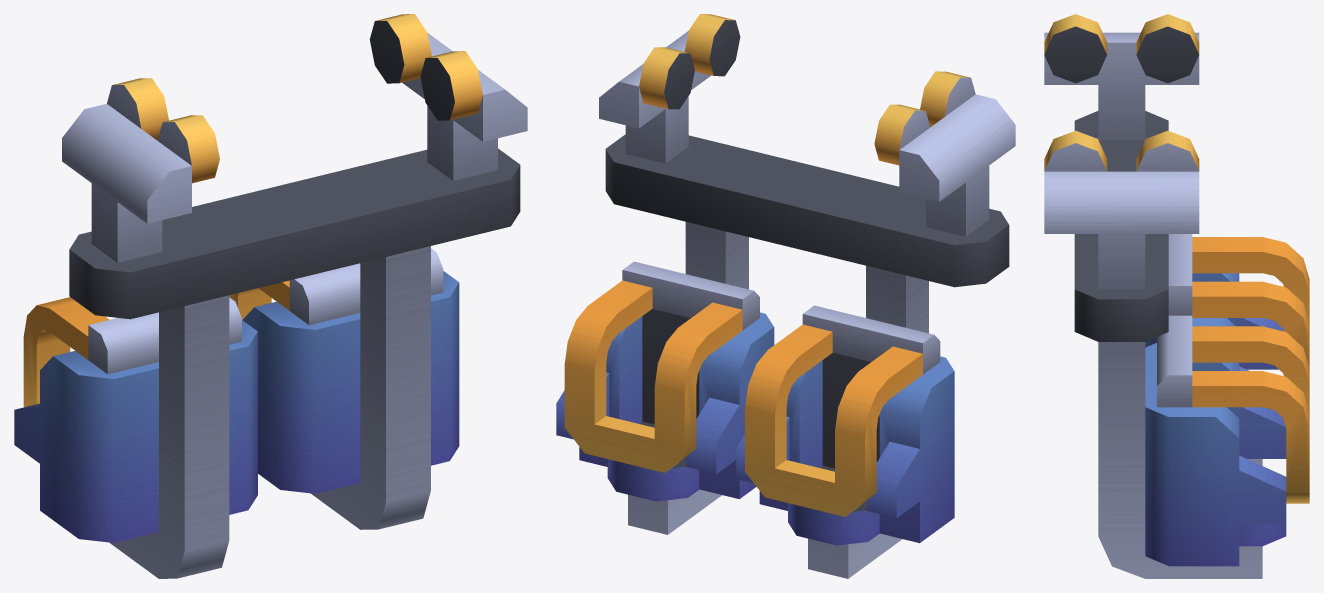
File: coaster-train-hanging.glb
3 views of the same model, side by side, from view 1: azimuth 30°, elevation 25°; view 2: azimuth 150°, elevation 25°; view 3: azimuth 270°, elevation 25° (orthographic). The views are drawn at different scales.
Parts seen in each view (by area): view 1: coaster-train-hanging; view 2: coaster-train-hanging; view 3: coaster-train-hanging.
Part boxes in pixels (<box>): coaster-train-hanging: <box>14,14,527,578</box>; coaster-train-hanging: <box>556,14,1015,578</box>; coaster-train-hanging: <box>1044,14,1309,578</box>.
Size of the model in its own units: 2.85 by 3.14 by 1.69.
Materials: 1 (1 with a texture image).
